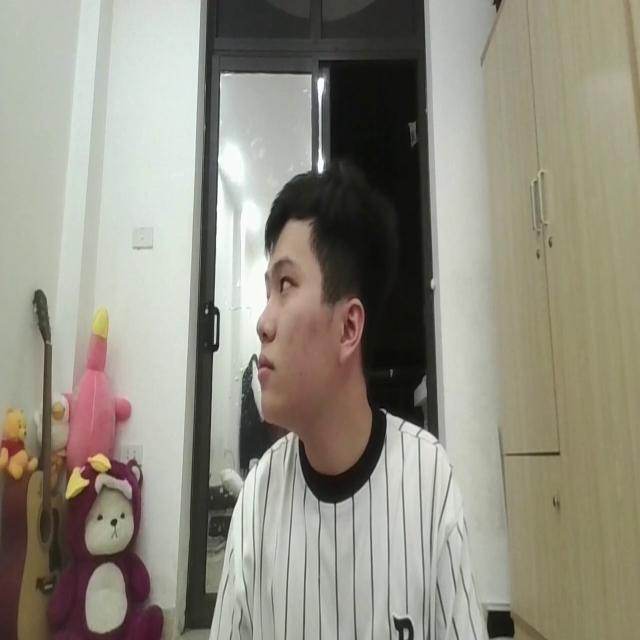student: (211, 162, 483, 640)
